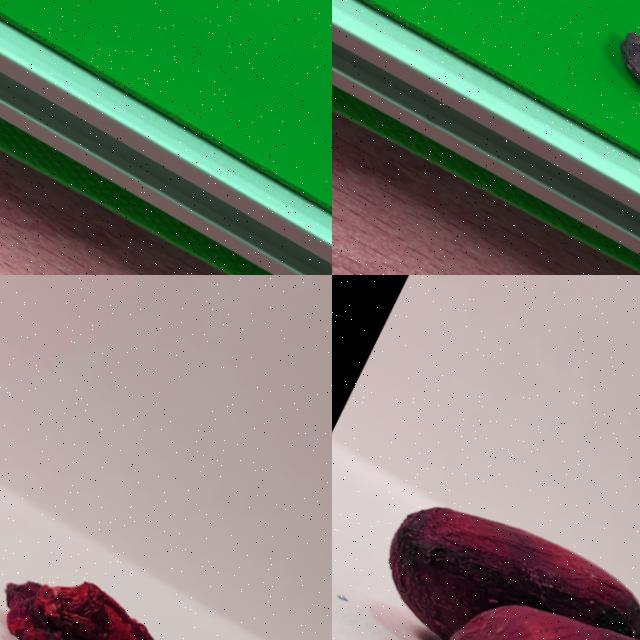Agglomerated_cocoabeans: (332, 405, 639, 639)
Flat_cocoabeans: (0, 477, 324, 639), (502, 0, 639, 236), (260, 18, 331, 274)
